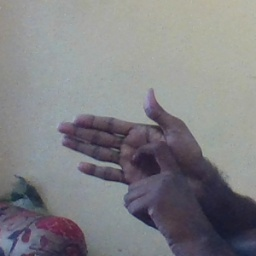R: (57, 88, 183, 217)
